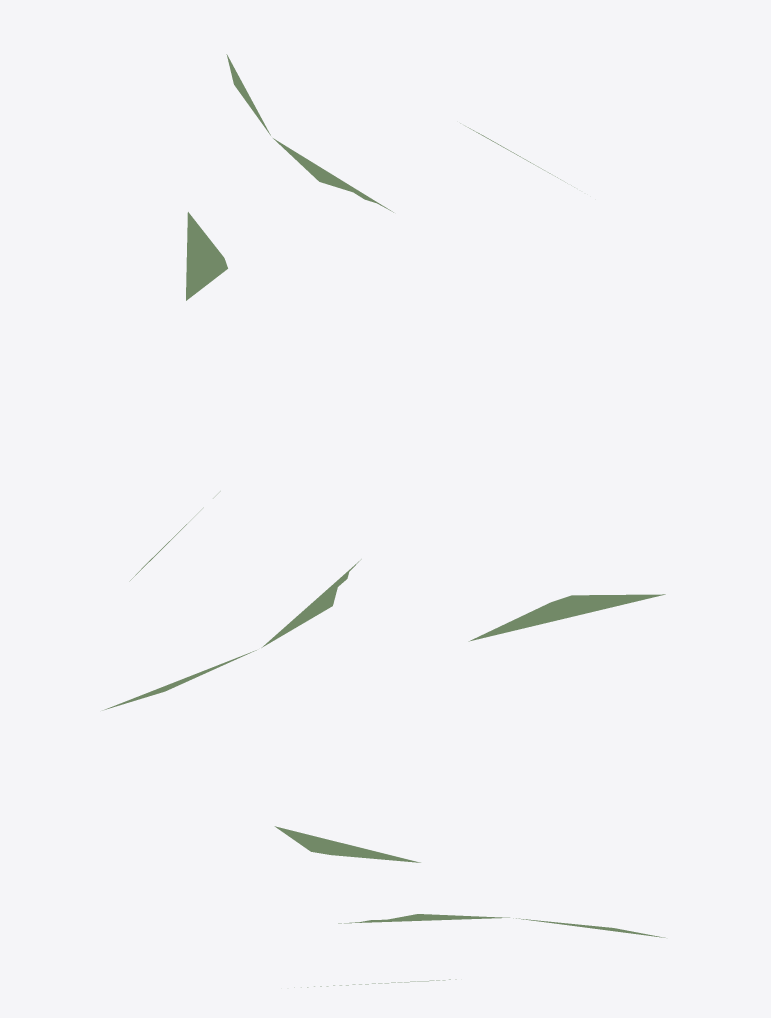
The model's file is c_1646_17817_parks.glb.
3 renders of one model, top to bottom at view 1: azimuth 30°, elevation 25°; view 2: azimuth 150°, elevation 25°; view 3: azimuth 270°, elevation 25°, orthographic. The views are drawn at different scales.
Visible parts, largest first — view 1: geometry_0; view 2: geometry_0; view 3: geometry_0.
Boxes of the visible parts, x1,y1,x2,y2 form: geometry_0: (186, 54, 574, 300); geometry_0: (102, 491, 665, 710); geometry_0: (274, 826, 665, 987).
Bounding box in the file's own units: 217 × 0 × 333.
